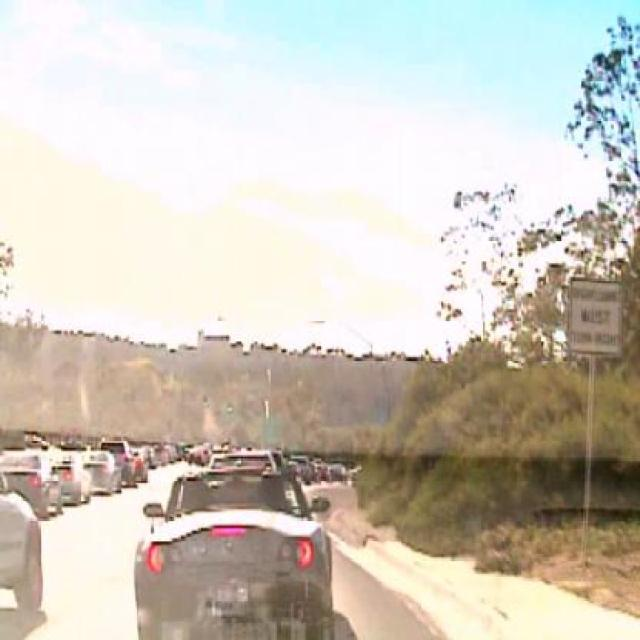rightLaneMustTurn: (568, 277, 623, 358)
